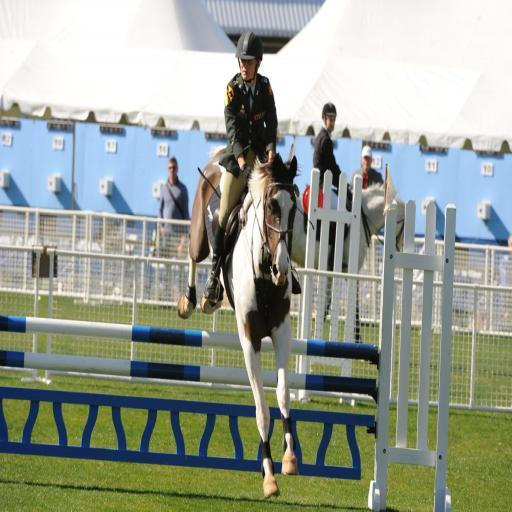horse: (176, 145, 302, 498), (292, 182, 406, 344)
